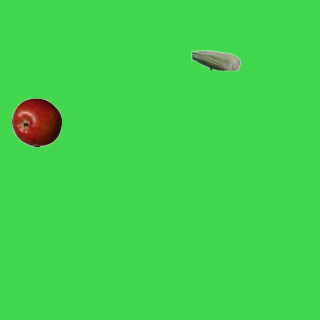Apple Braeburn: (11, 97, 61, 147)
Corn Husk: (190, 35, 240, 85)
